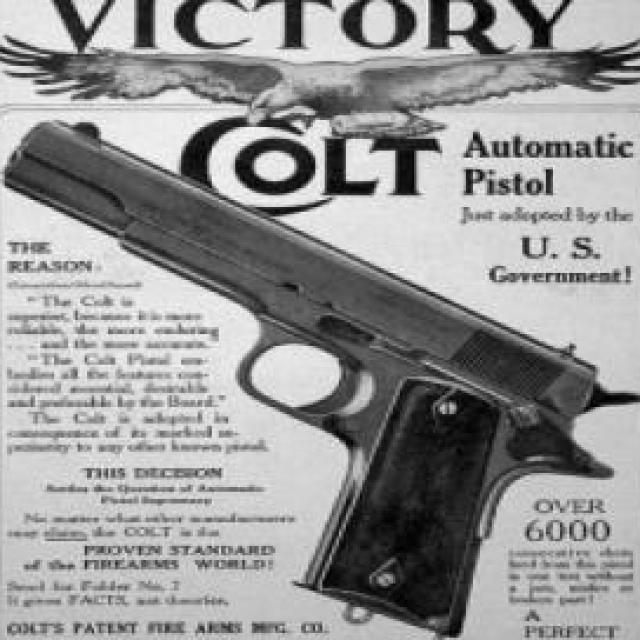pistol: (2, 115, 640, 638)
